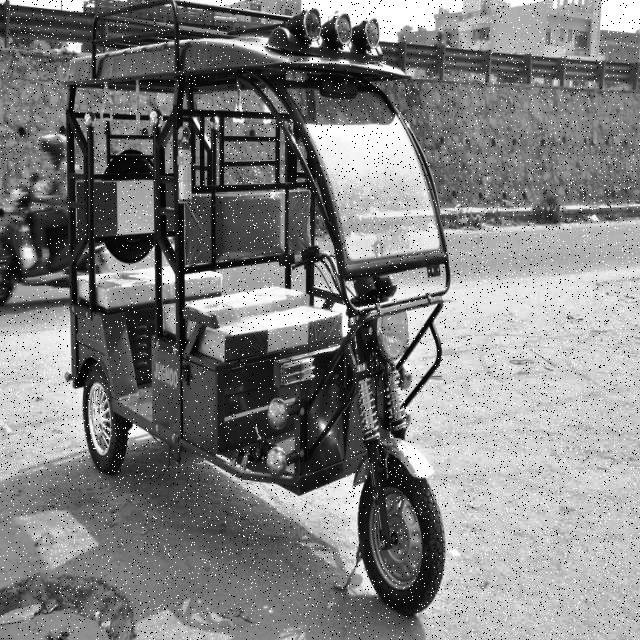Toto: (59, 35, 445, 616)
